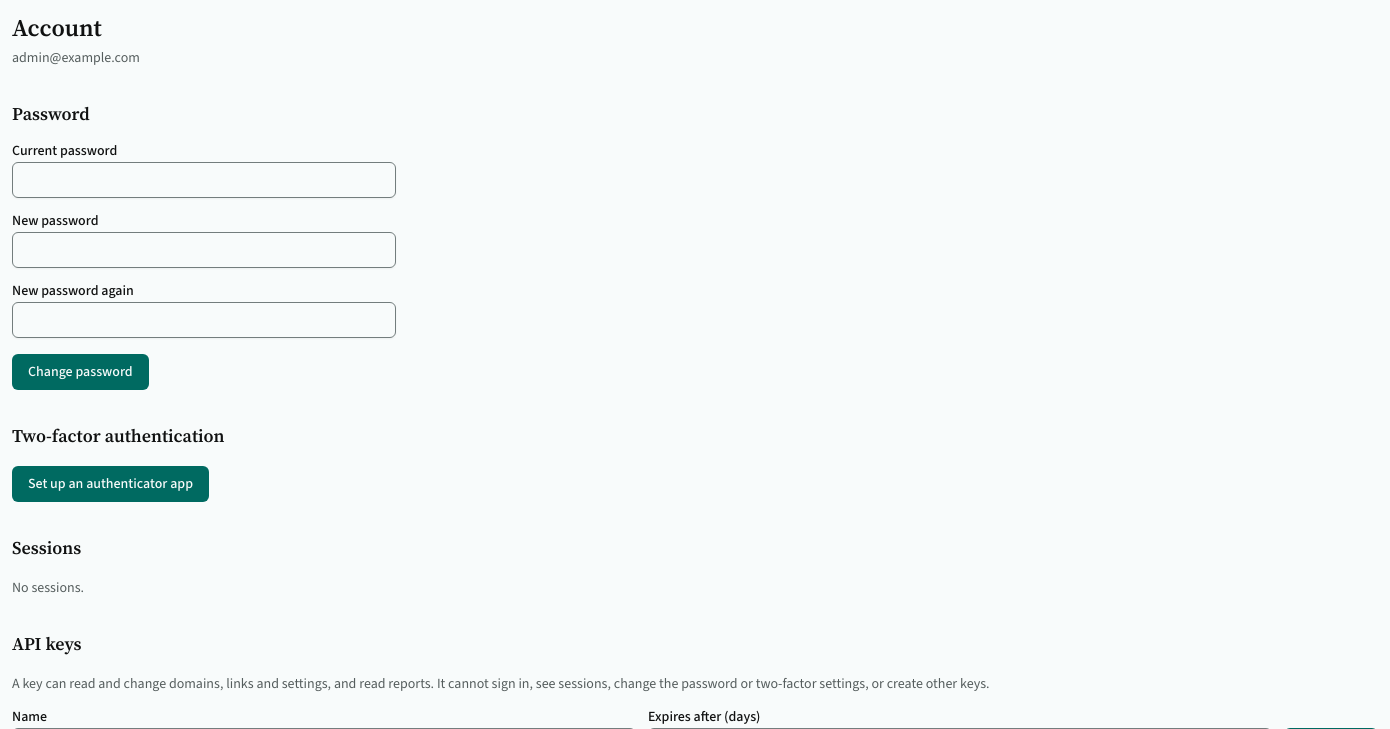
Test: the account screen › shows the service's refusal under Current password
Type "wrong one" into the password field labelled "Current password".
click(204, 180); type("wrong one")  # box [12, 162, 396, 198]
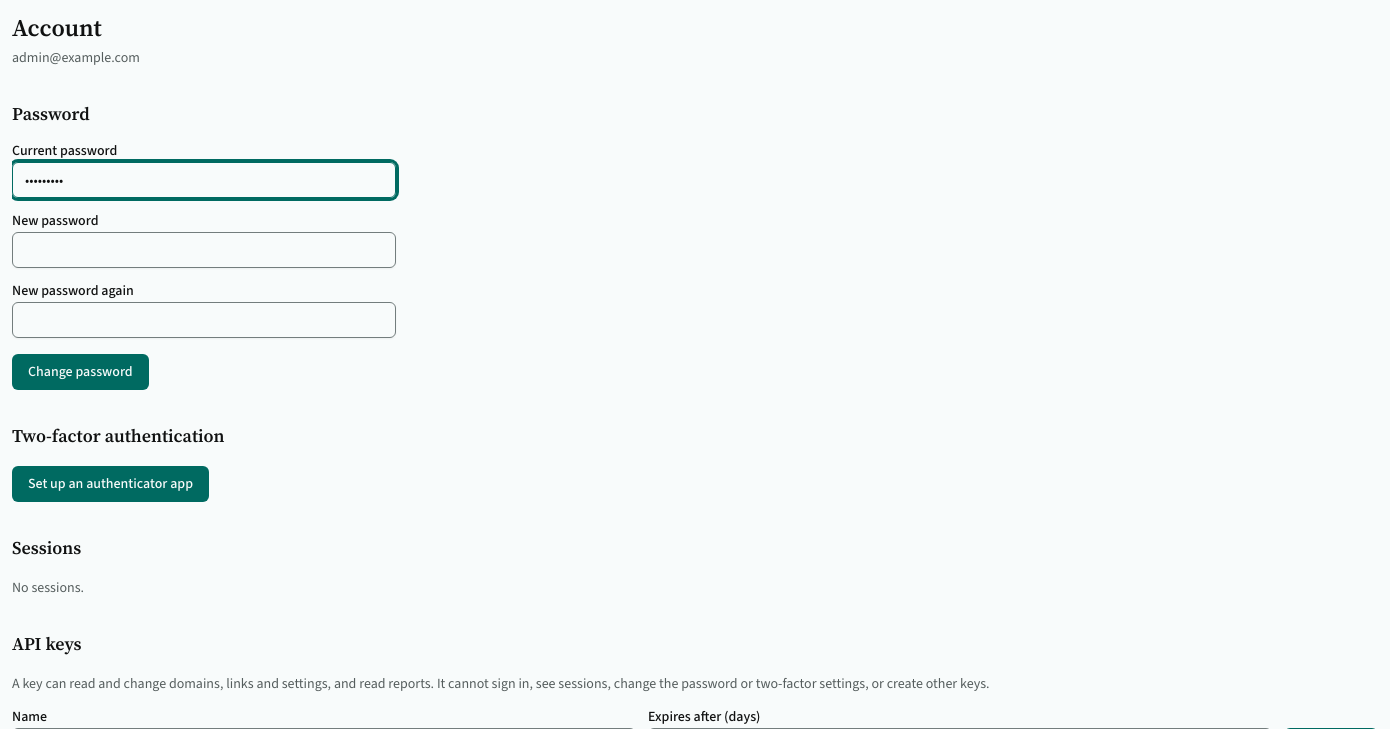
Type "a new decent password" into the password field labelled "New password".
click(204, 250); type("a new decent password")  # box [12, 232, 396, 268]
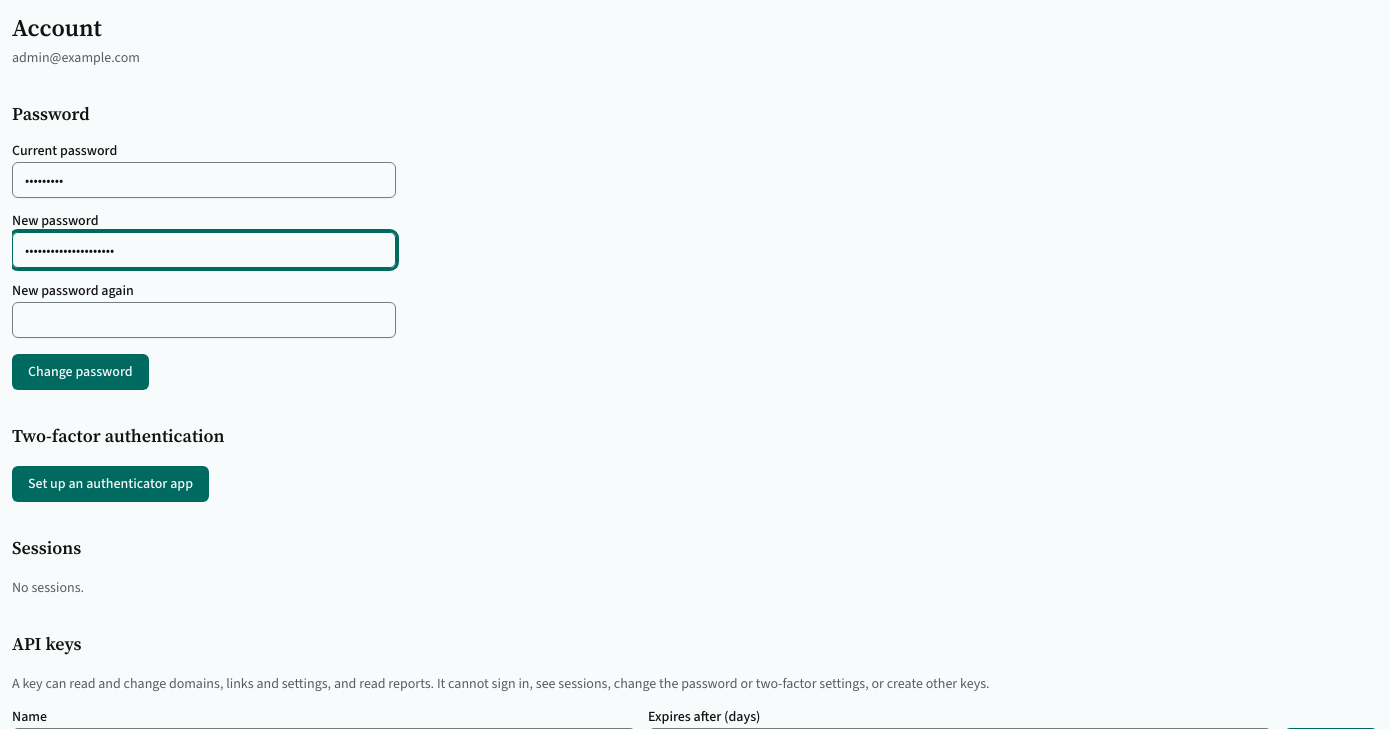
Type "a new decent password" into the password field labelled "New password again".
click(204, 320); type("a new decent password")  # box [12, 302, 396, 338]
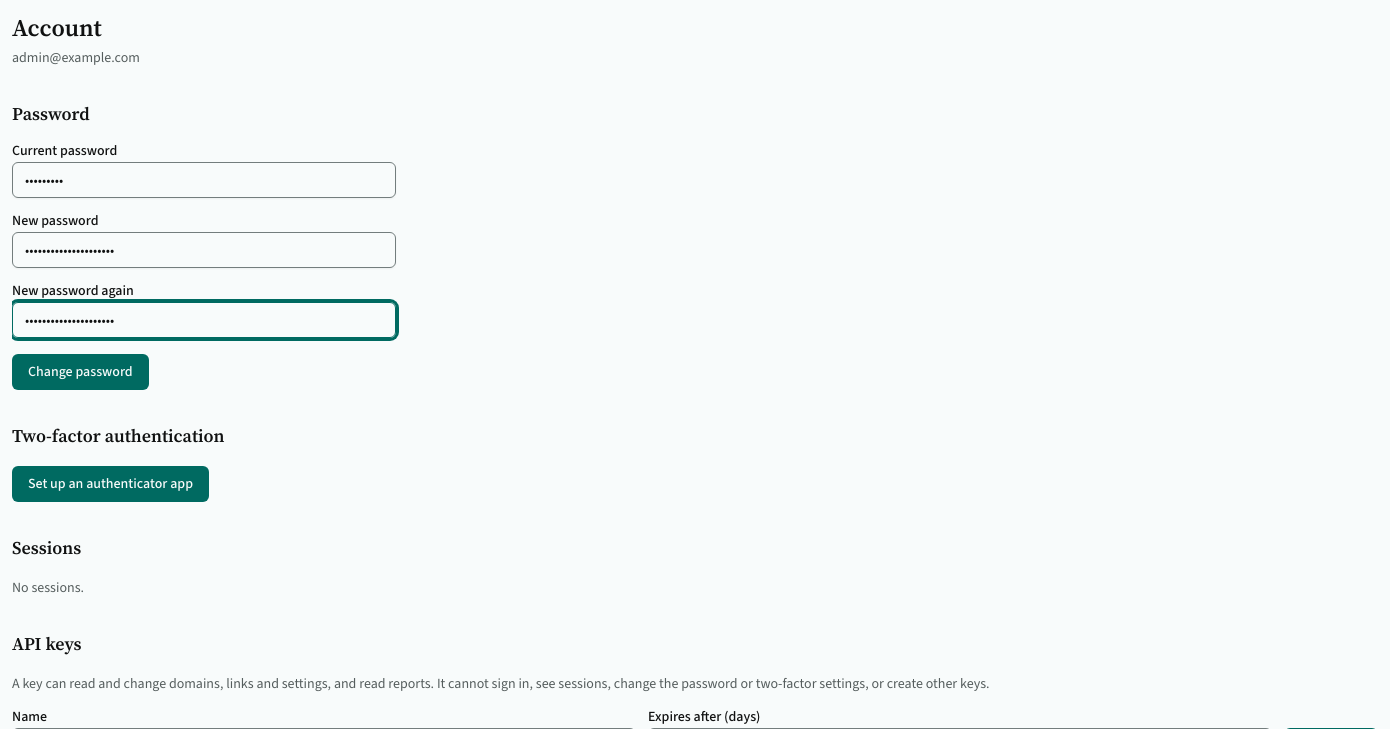
Click the button "Change password".
click(80, 372)  # box [12, 354, 149, 390]
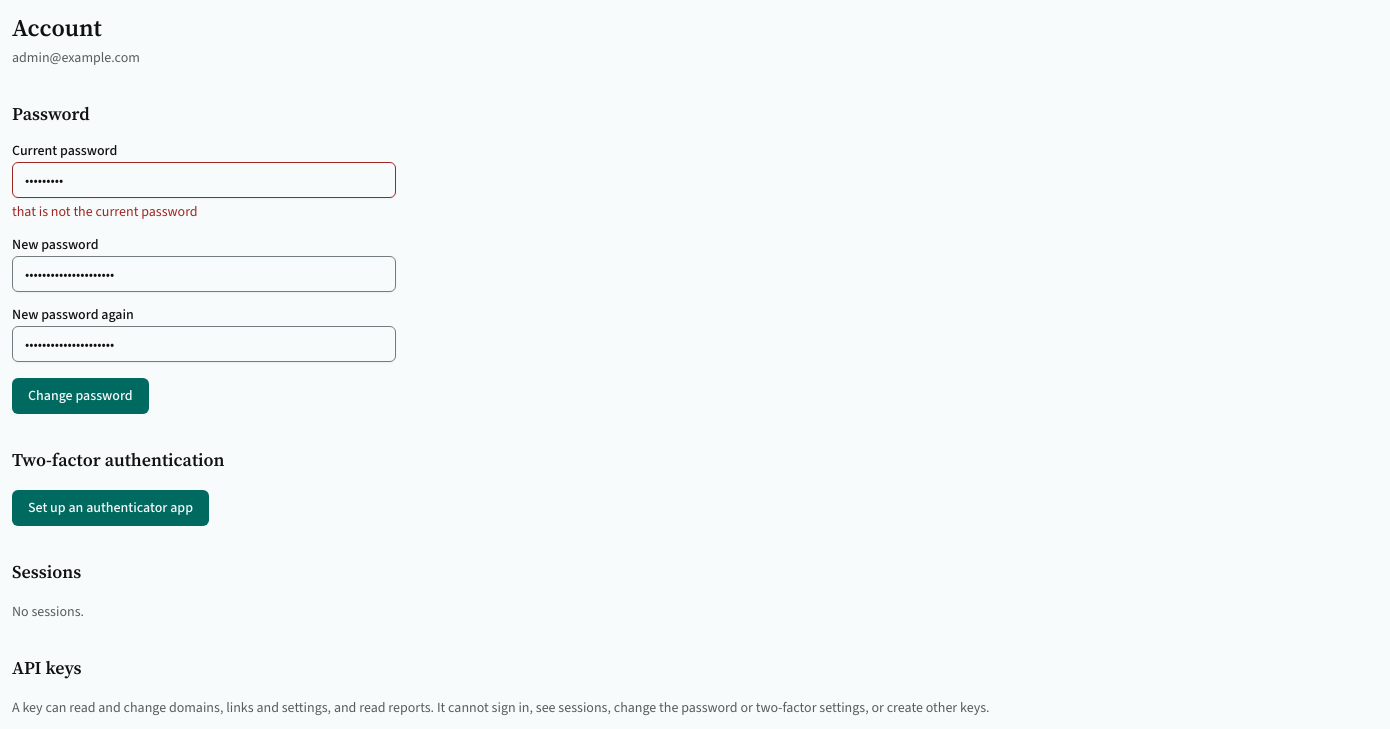
Now the text "that is not the current password" is shown, box [12, 202, 198, 221]
